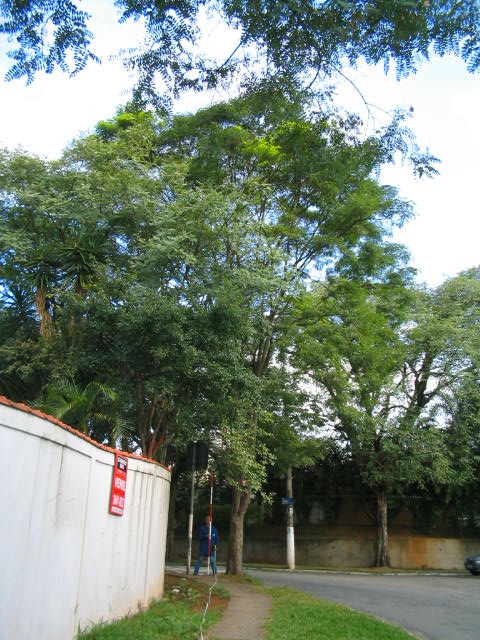crown: (83, 74, 420, 493)
stem: (220, 505, 254, 575)
stick: (203, 470, 220, 576)
tree: (80, 72, 422, 576)
